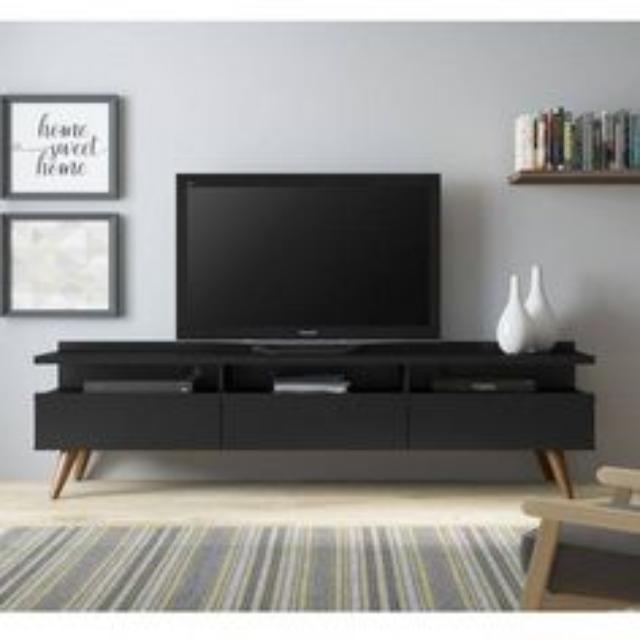Flat-Panel-TV: (176, 174, 439, 344)
